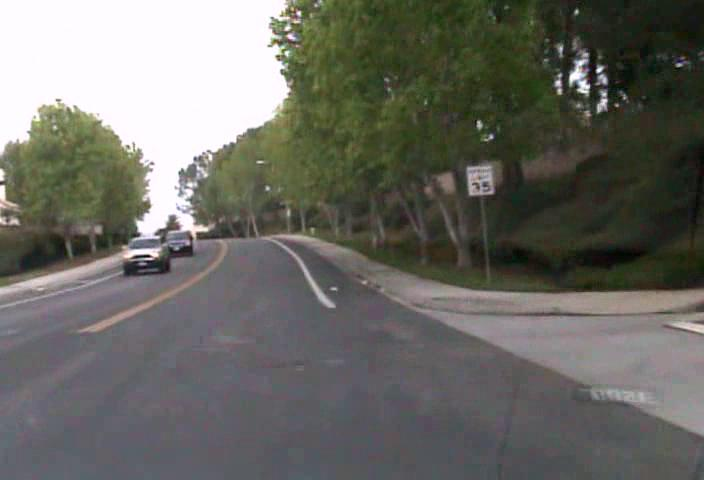speedLimit35: (466, 162, 495, 196)
